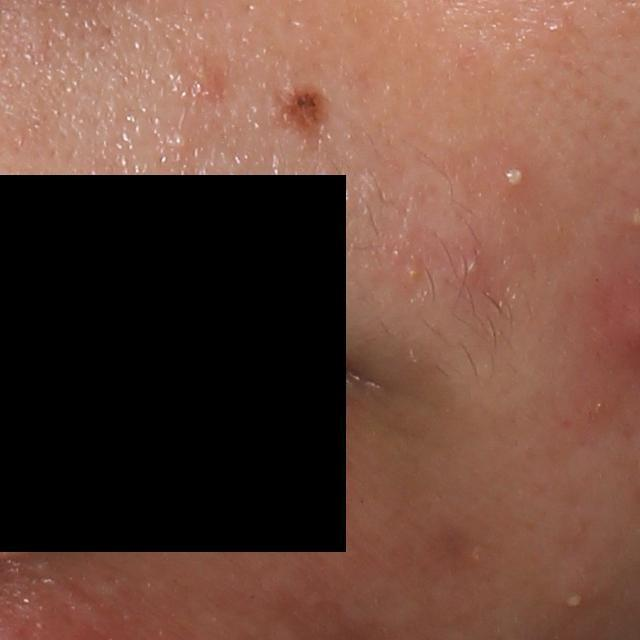comedo: (545, 19, 568, 37), (170, 131, 188, 152), (406, 263, 423, 281)
nevus: (274, 82, 332, 147)
papule: (172, 58, 225, 104)
pustule: (499, 163, 533, 198), (458, 248, 490, 282), (561, 591, 586, 612)
